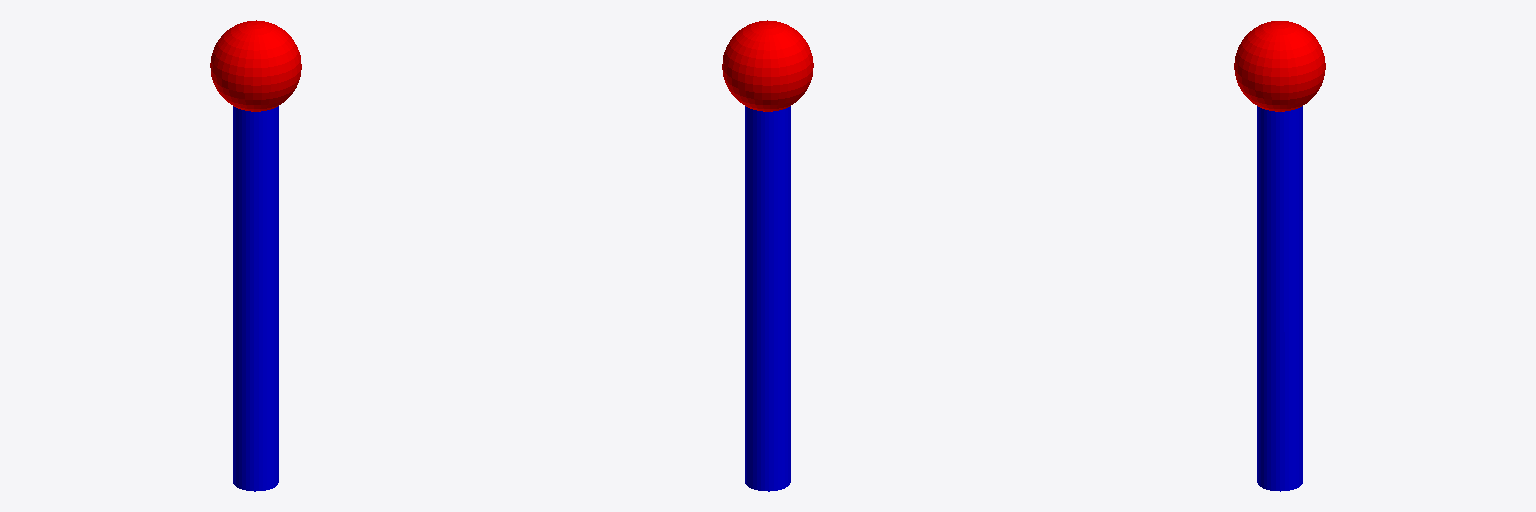
The robot description file, URDF, robot "pendulum_with_heavy_base":
<?xml version="1.0"?>
<robot name="pendulum_with_heavy_base">
  <!-- Fixed base -->
  <link name="base_link"/>
   
  <!-- Pendulum link -->
  <link name="pendulum_link">
    <inertial>
      <origin xyz="0 0 -0.5" rpy="0 0 0"/>
      <mass value="0.0"/>
      <inertia ixx="0.00" ixy="0" ixz="0" iyy="0.00" iyz="0" izz="0.00"/>
    </inertial>
    <visual>
      <origin xyz="0 0 -0.5" rpy="0 0 0"/>
      <geometry>
        <cylinder length="1.0" radius="0.05"/>
      </geometry>
      <material name="blue">
        <color rgba="0 0 1 1"/>
      </material>
    </visual>
    <collision>
      <origin xyz="0 0 -0.5" rpy="0 0 0"/>
      <geometry>
        <cylinder length="1.0" radius="0.05"/>
      </geometry>
    </collision>
  </link>

  <!-- Additional mass at the end of the pendulum -->
  <link name="end_mass">
    <inertial>
      <origin xyz="0 0 -0.5" rpy="0 0 0"/>
      <mass value="1.0"/>
      <origin xyz="0 0 -1.0"/>
      <inertia ixx="0.02" ixy="0" ixz="0" iyy="0.02" iyz="0" izz="0.02"/>
    </inertial>
    <visual>
      <origin xyz="0 0 -0.5" rpy="0 0 0"/>
      <geometry>
        <sphere radius="0.1"/>
      </geometry>
      <material name="red">
        <color rgba="1 0 0 1"/>
      </material>
    </visual>
    <collision>
      <origin xyz="0 0 -0.5" rpy="0 0 0"/>
      <geometry>
        <sphere radius="0.1"/>
      </geometry>
    </collision>
  </link>

  <!-- Joint between base and pendulum -->
  <joint name="continuous_joint" type="continuous">
    <parent link="base_link"/>
    <child link="pendulum_link"/>
    <axis xyz="0 1 0"/>
    <origin xyz="0 0 0" rpy="3.14169 0 0"/>
    <limit lower="-6.28" upper="6.28" effort="1000.0" velocity="100.0"/>
  </joint>

  <!-- Fixed joint for additional mass -->
  <joint name="fixed_joint" type="fixed">
    <parent link="pendulum_link"/>
    <child link="end_mass"/>
    <origin xyz="0 0 -0.5" rpy="0 0 0"/>
  </joint>
</robot>

--- What the picture shows (computed from the rendered views, not written in the file) ---
3 views of the same robot in one strip: view 1: azimuth 30°, elevation 25°; view 2: azimuth 150°, elevation 25°; view 3: azimuth 270°, elevation 25° (orthographic).
Model pendulum_with_heavy_base with 3 links and 2 joints (1 continuous, 1 fixed), rooted at base_link, posed every joint at zero.
Visible links, largest first — view 1: pendulum_link, end_mass; view 2: pendulum_link, end_mass; view 3: pendulum_link, end_mass.
Link boxes in pixels (x1,y1,x2,y2): pendulum_link: (233, 106, 278, 491); end_mass: (210, 20, 301, 111); pendulum_link: (745, 106, 790, 491); end_mass: (722, 20, 813, 111); pendulum_link: (1257, 106, 1302, 491); end_mass: (1234, 21, 1325, 111).
Size in the robot's own frame: 0.2 by 0.2 by 1.1 metres.
Geometry: primitives only (box / cylinder / sphere), no mesh files.